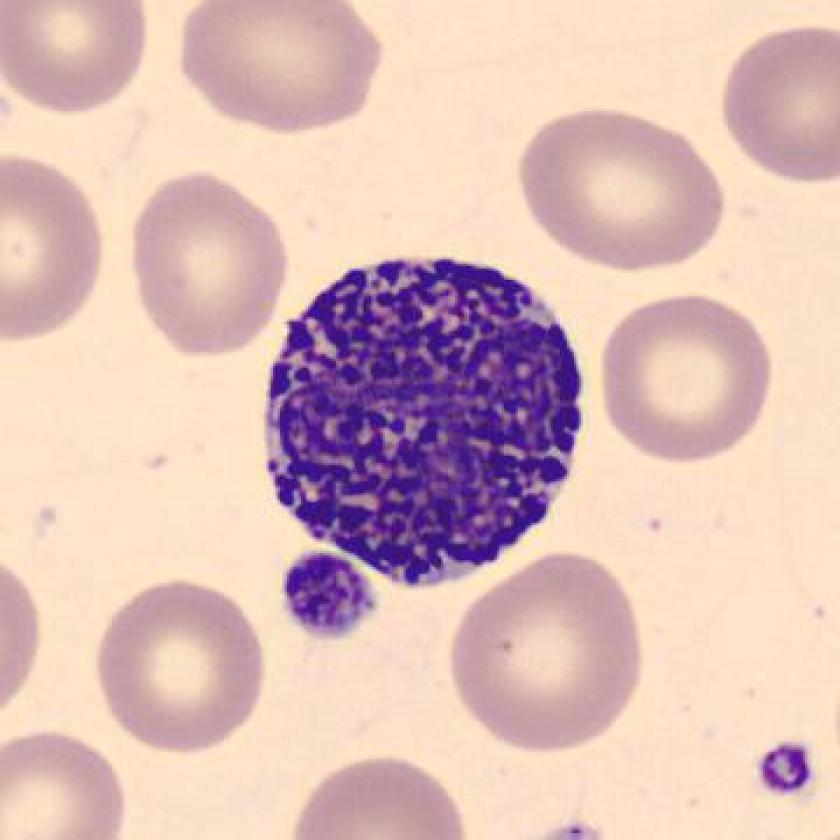basophil: (253, 251, 587, 591)
